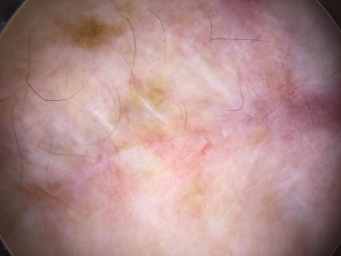melanoma: (109, 75, 168, 129), (65, 14, 124, 48)
